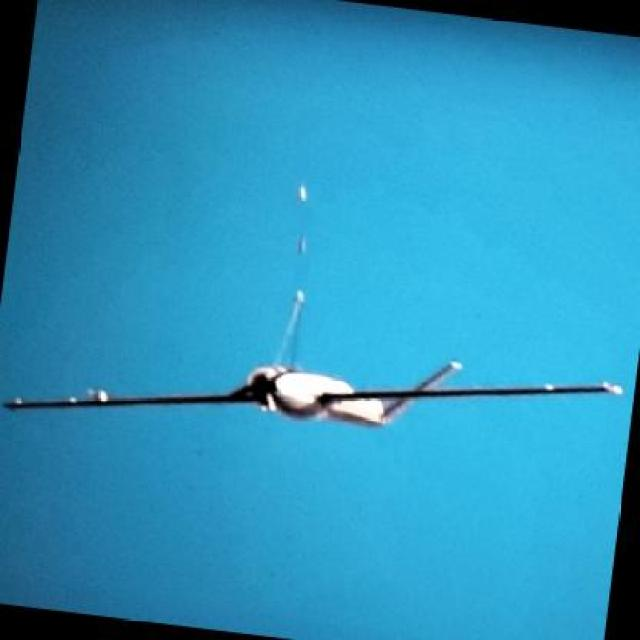iha: (6, 279, 639, 458)
